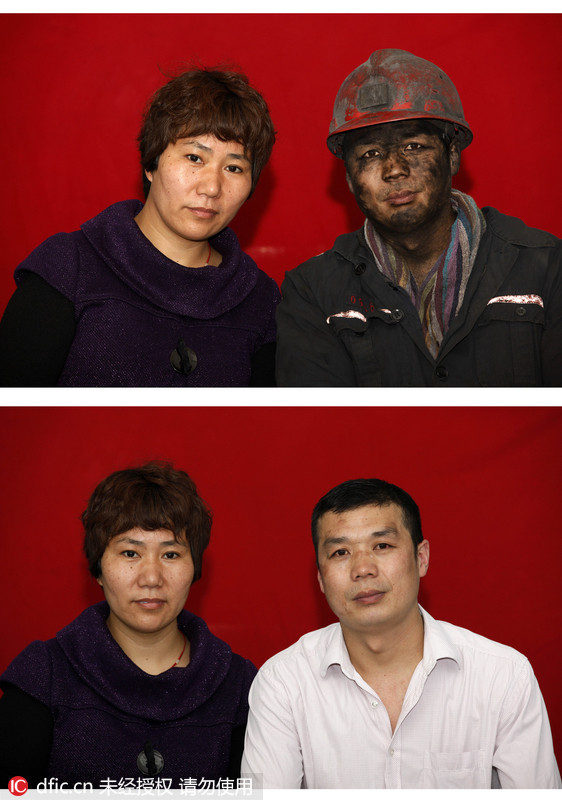helmet: (316, 39, 472, 238)
